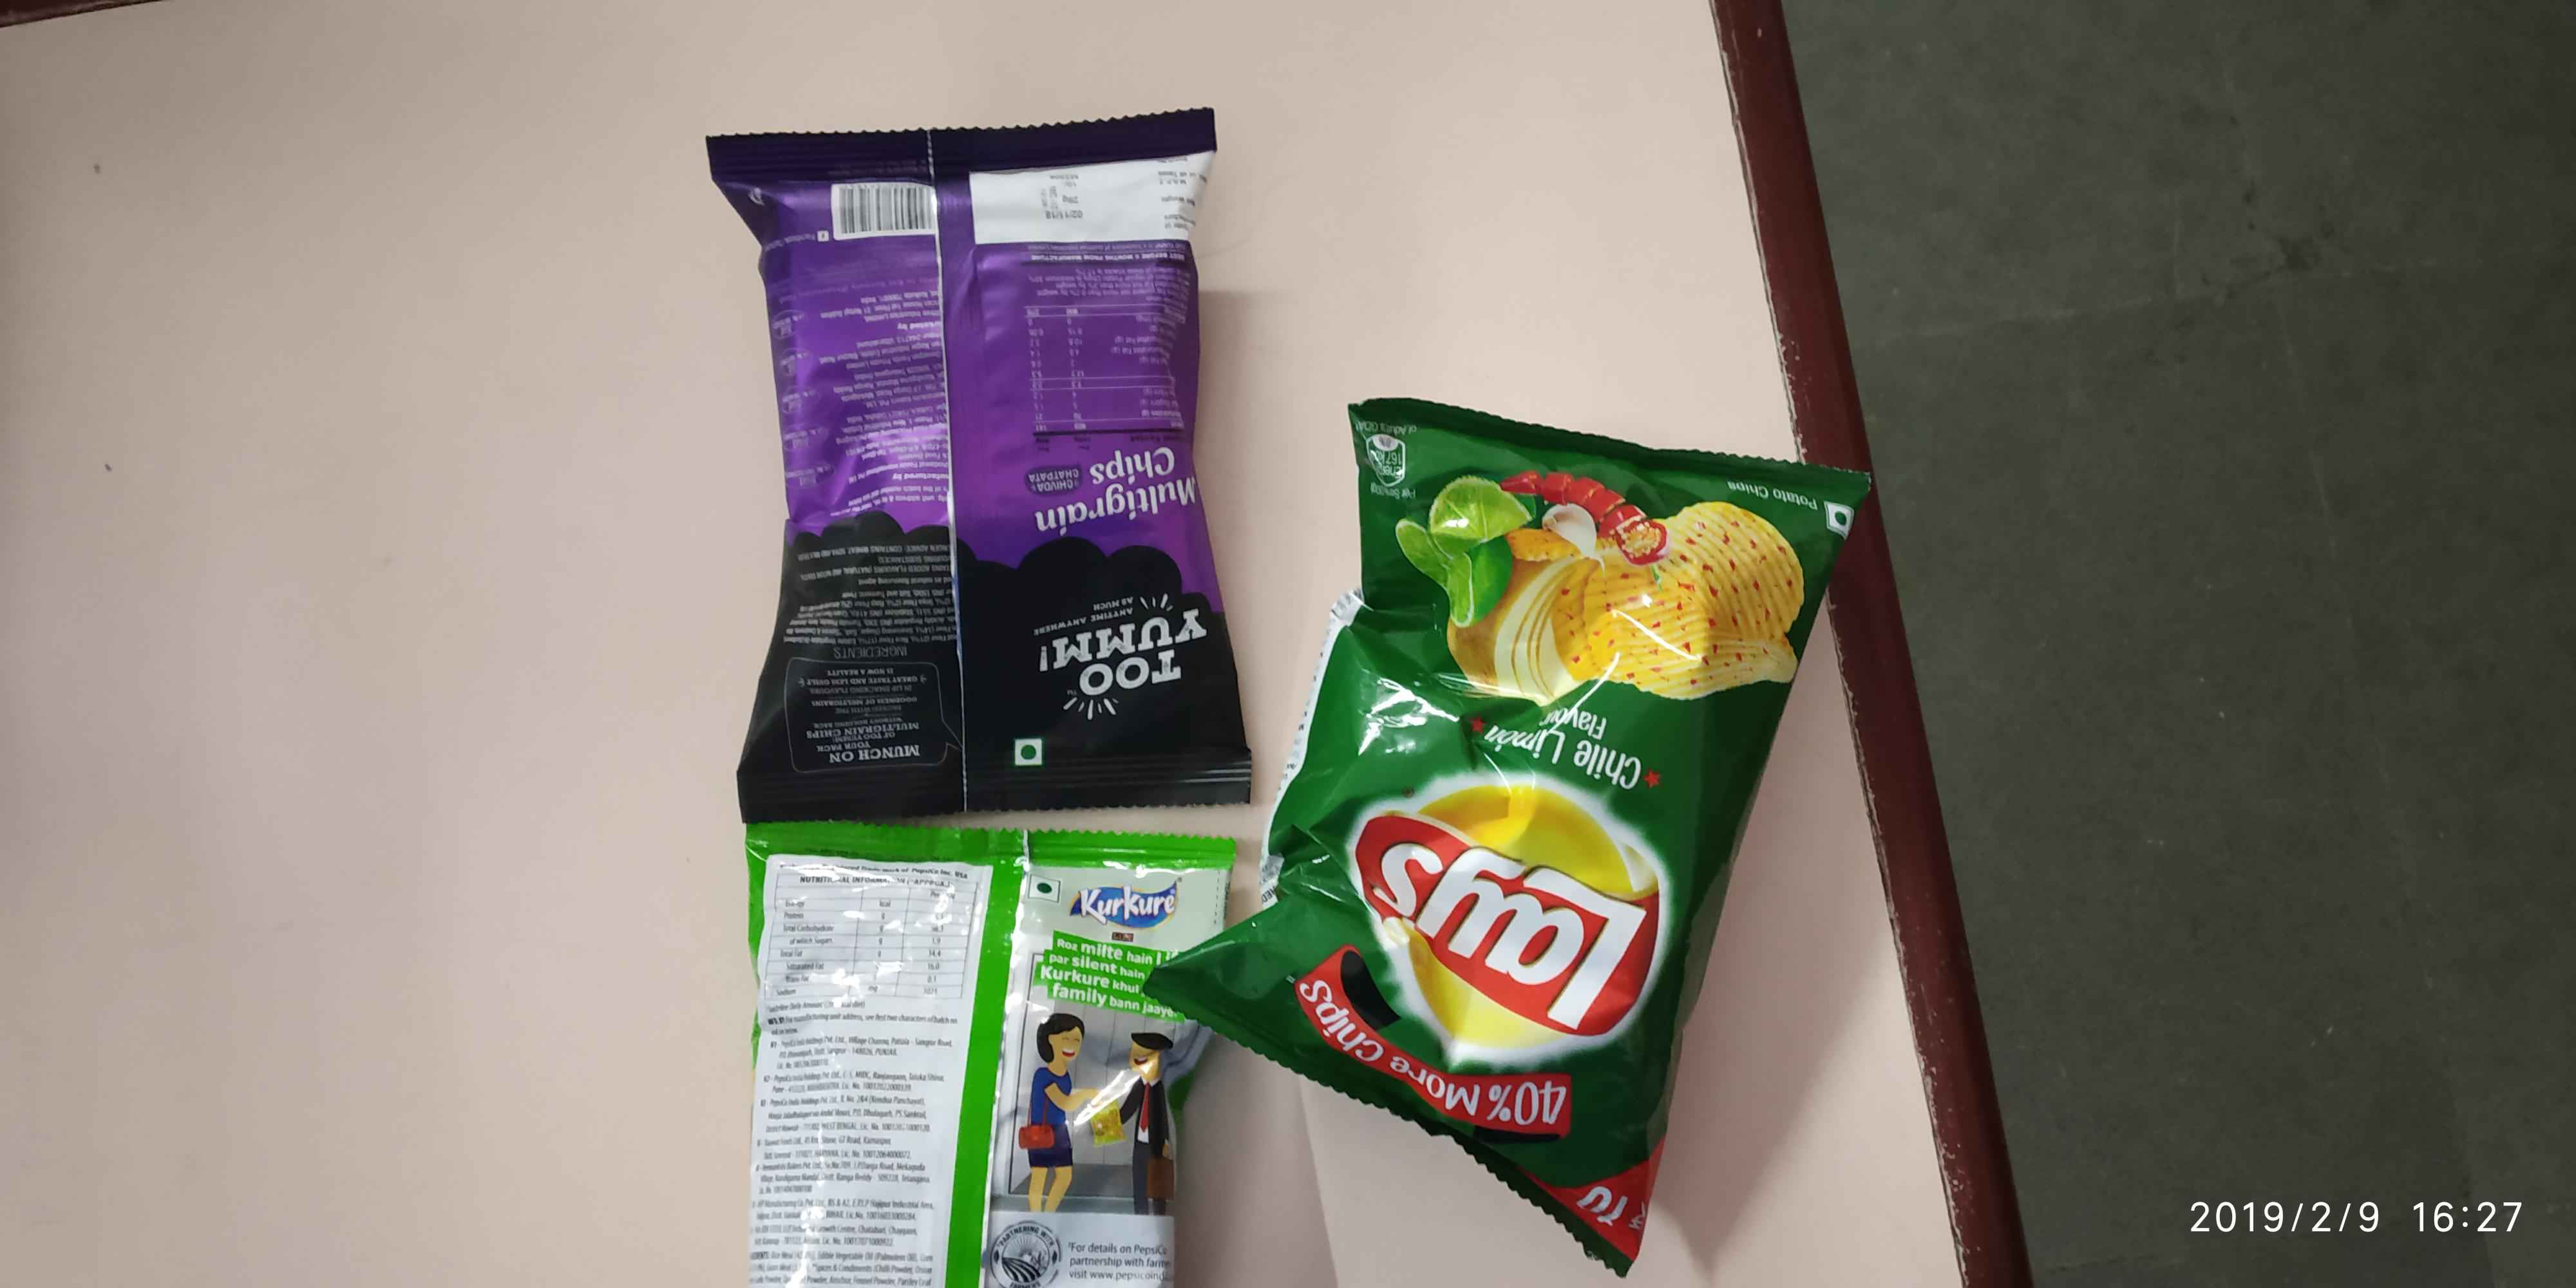Lays: (1337, 744, 1663, 1091)
kurkure: (1063, 871, 1211, 923)
tooyumm: (1012, 598, 1247, 713)
